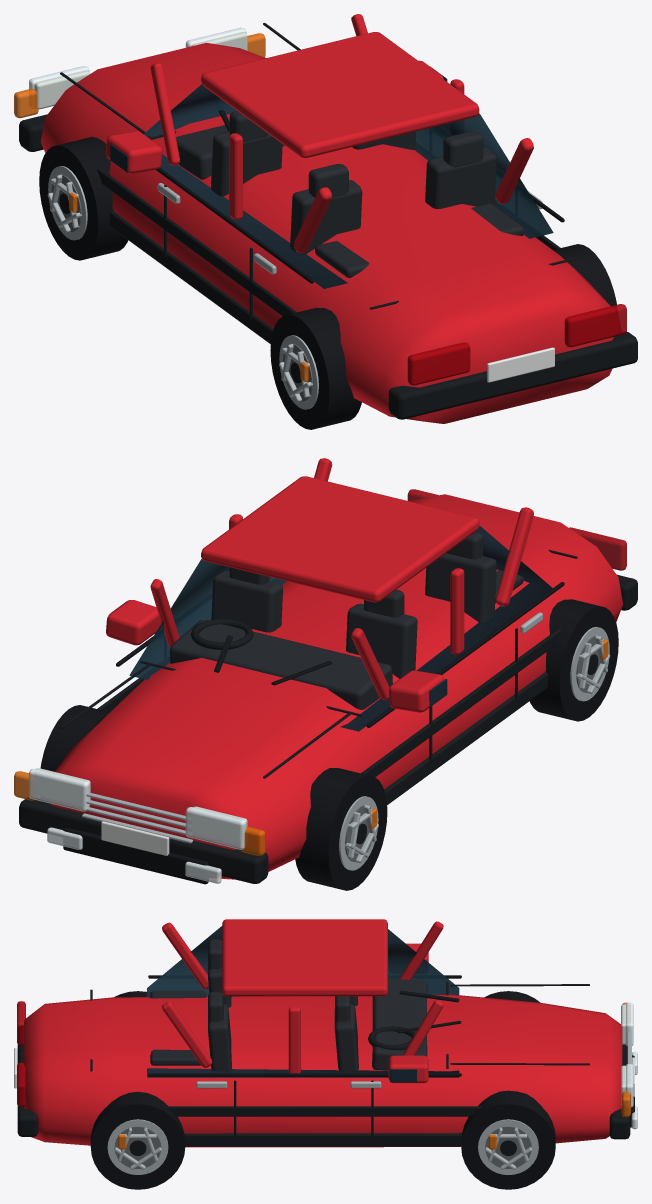
The model's file is sedan.glb.
3 renders of one model, top to bottom at view 1: azimuth 30°, elevation 25°; view 2: azimuth 150°, elevation 25°; view 3: azimuth 270°, elevation 25°, orthographic. The views are drawn at different scales.
Parts seen in each view (by area): view 1: BodyPaint sculpted shell, BodyPaint roof, Tire (×3), Reflective glazed cabin, Seat back (×3), Rear bumper, Tail light (×2), Headrest (×3), Lower sill trim, Side protection strip, BodyPaint C pillar (×2), Rear parcel shelf (+10 smaller); view 2: BodyPaint sculpted shell, BodyPaint roof, Tire (×3), Seat back (×3), Dashboard, Reflective glazed cabin, Front bumper, Headlight clear lens (×2), BodyPaint mirror (×2), Lower sill trim, Side protection strip, Front lower intake (+9 smaller); view 3: BodyPaint sculpted shell, BodyPaint roof, Tire (×2), Reflective glazed cabin, Lower sill trim, Side protection strip, Dashboard, Seat back (×3), Alloy rim (×2), BodyPaint C pillar (×2), Brake disc (×2), BodyPaint A pillar (×2) (+9 smaller).
Boxes of the visible parts, x1=… form: BodyPaint sculpted shell: x1=40, y1=42, x2=613, y2=423; BodyPaint roof: x1=201, y1=32, x2=479, y2=157; Tire (×3): x1=39, y1=137, x2=616, y2=429; Reflective glazed cabin: x1=144, y1=84, x2=553, y2=288; Seat back (×3): x1=211, y1=131, x2=496, y2=254; Rear bumper: x1=388, y1=332, x2=637, y2=419; Tail light (×2): x1=407, y1=304, x2=626, y2=385; Headrest (×3): x1=229, y1=111, x2=483, y2=197; Lower sill trim: x1=109, y1=211, x2=273, y2=344; Side protection strip: x1=96, y1=167, x2=296, y2=316; BodyPaint C pillar (×2): x1=294, y1=138, x2=533, y2=253; Rear parcel shelf: x1=315, y1=204, x2=523, y2=277; BodyPaint sculpted shell: x1=50, y1=494, x2=623, y2=879; BodyPaint roof: x1=201, y1=476, x2=479, y2=602; Tire (×3): x1=40, y1=599, x2=618, y2=890; Seat back (×3): x1=211, y1=553, x2=496, y2=678; Dashboard: x1=169, y1=620, x2=392, y2=709; Reflective glazed cabin: x1=129, y1=526, x2=552, y2=731; Front bumper: x1=19, y1=799, x2=268, y2=883; Headlight clear lens (×2): x1=29, y1=768, x2=246, y2=849; BodyPaint mirror (×2): x1=106, y1=600, x2=444, y2=712; Lower sill trim: x1=384, y1=672, x2=547, y2=804; Side protection strip: x1=361, y1=628, x2=561, y2=776; Front lower intake: x1=63, y1=827, x2=208, y2=884; BodyPaint sculpted shell: x1=24, y1=994, x2=622, y2=1147; BodyPaint roof: x1=222, y1=919, x2=387, y2=996; Tire (×2): x1=90, y1=1090, x2=555, y2=1189; Reflective glazed cabin: x1=147, y1=926, x2=459, y2=1077; Lower sill trim: x1=184, y1=1133, x2=461, y2=1146; Side protection strip: x1=164, y1=1106, x2=481, y2=1116; Dashboard: x1=372, y1=978, x2=427, y2=1070; Seat back (×3): x1=208, y1=968, x2=358, y2=1071; Alloy rim (×2): x1=107, y1=1119, x2=538, y2=1174; BodyPaint C pillar (×2): x1=162, y1=922, x2=212, y2=1067; Brake disc (×2): x1=114, y1=1126, x2=531, y2=1168; BodyPaint A pillar (×2): x1=399, y1=921, x2=443, y2=1055.
Bounding box in the file's own units: 2.29 × 1.54 × 4.82.
